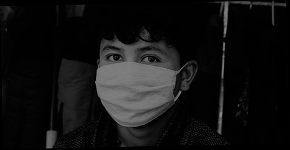with_mask: (95, 42, 181, 129)
